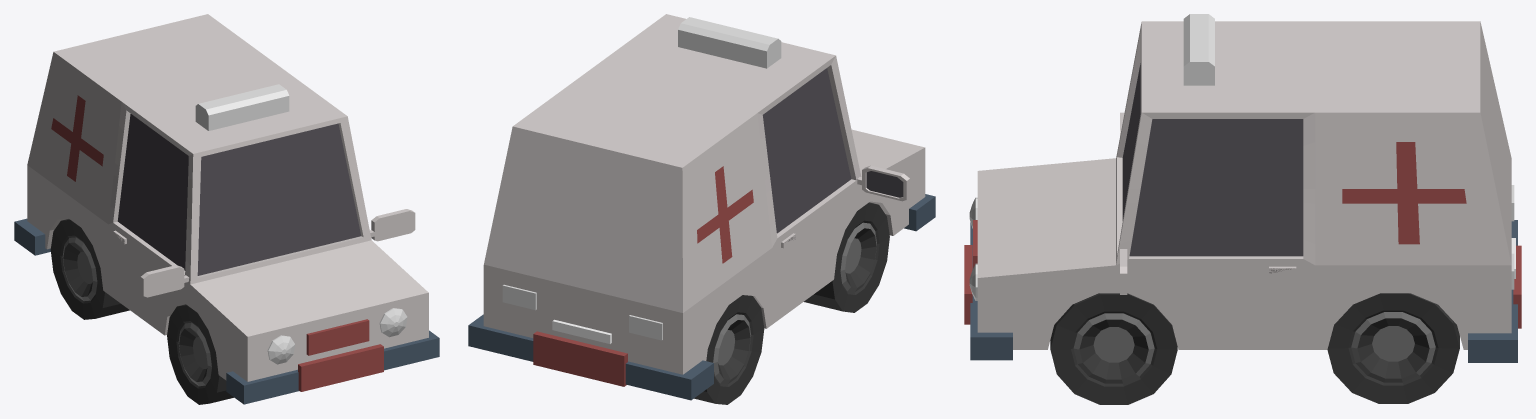
File: mobil ambulans.fbx
3 views of the same model, side by side, from view 1: azimuth 30°, elevation 25°; view 2: azimuth 150°, elevation 25°; view 3: azimuth 270°, elevation 25° (orthographic). The views are drawn at different scales.
Visible parts, largest first — view 1: lampu depan ambulans; view 2: lampu depan ambulans; view 3: lampu depan ambulans.
Part boxes in pixels (left/top/right/bottom): lampu depan ambulans: left=14, top=14, right=439, bottom=404; lampu depan ambulans: left=468, top=14, right=935, bottom=404; lampu depan ambulans: left=964, top=14, right=1521, bottom=404.
Bounding box in the file's own units: 1555 × 1409 × 2280.
